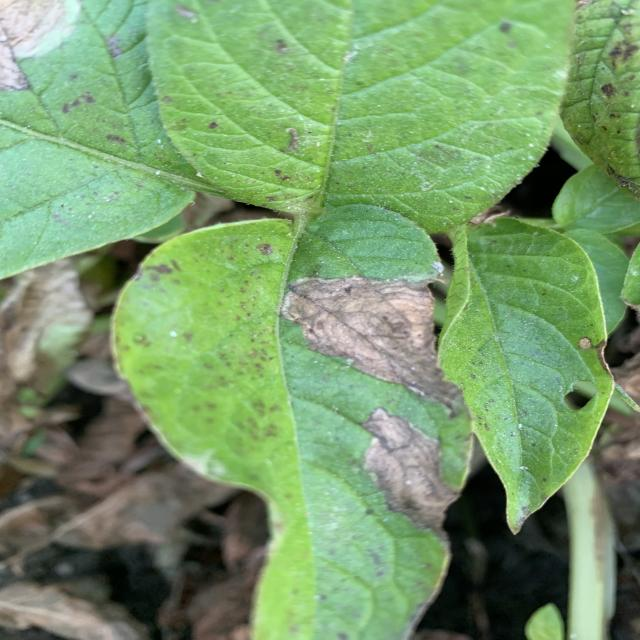lateblight: (282, 276, 463, 414), (362, 408, 458, 531)
